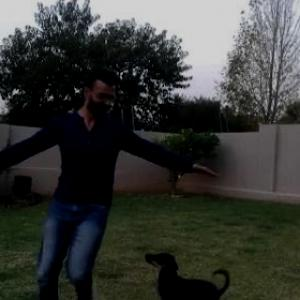land: (0, 78, 200, 299)
